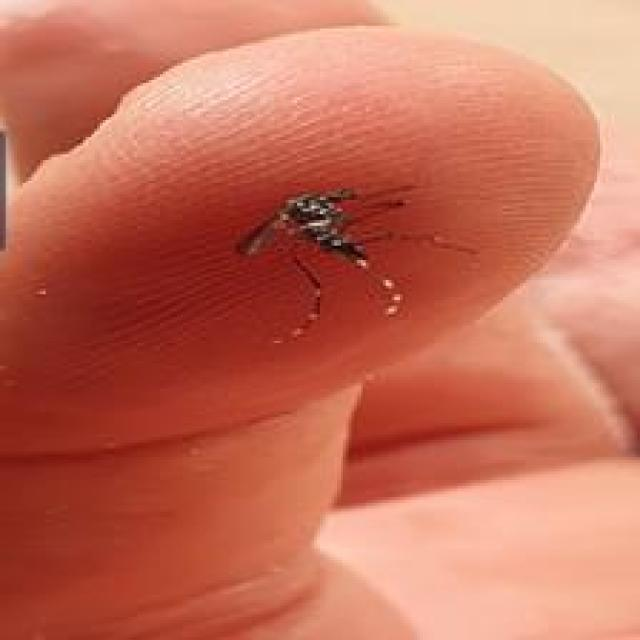Aedes albopictus: (233, 183, 416, 340)
